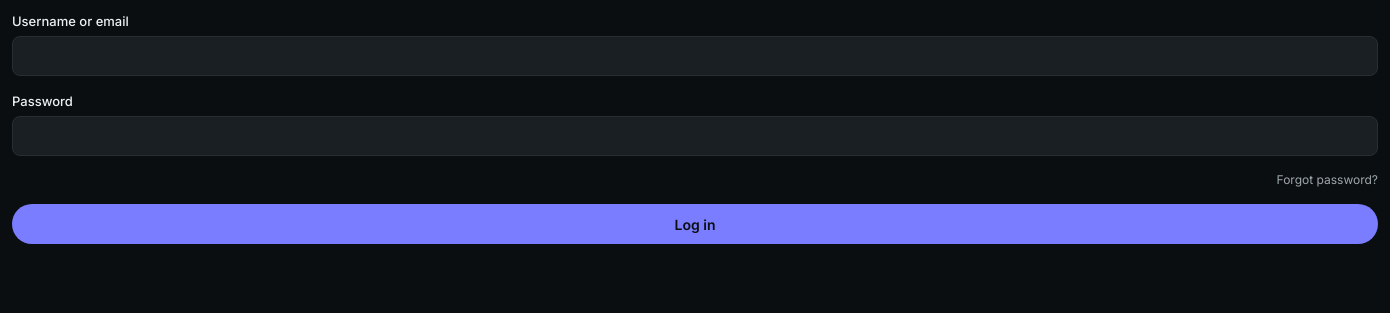
Test: login with two-factor authentication › goes back to the password step when the second-step token expired
The width and height of the screenshot is (1390, 313).
Type "ada" into the field labelled "Username or email". click: (695,56)
box: [12, 36, 1378, 76]
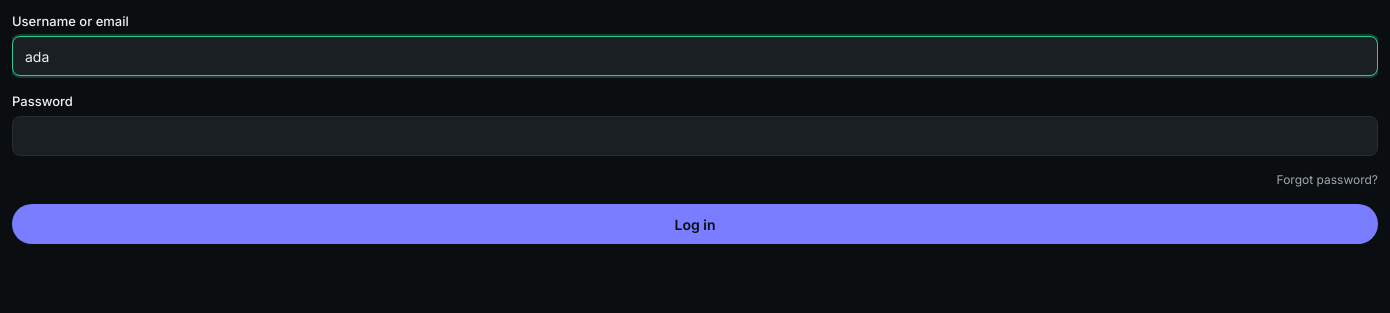
Type "abcd1234" into the password field labelled "Password". click: (695,136)
box: [12, 116, 1378, 156]
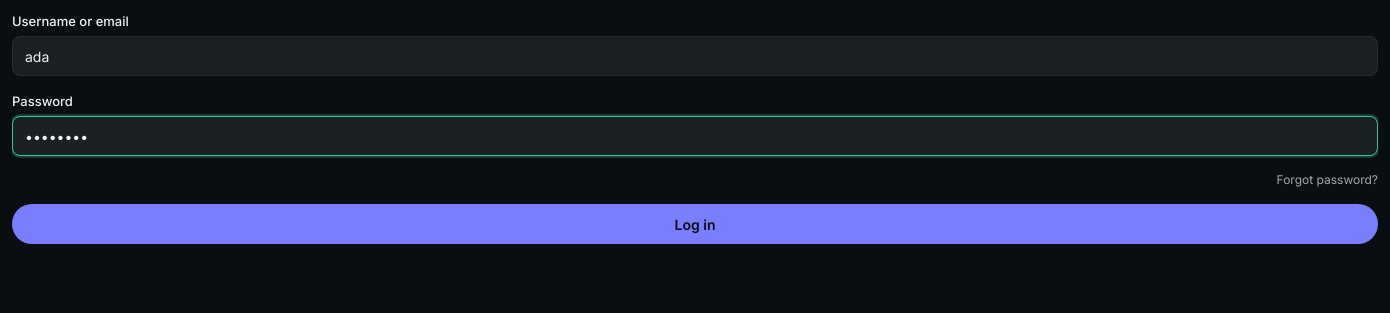
Click the button "Log in". click: (695,224)
box: [12, 204, 1378, 244]
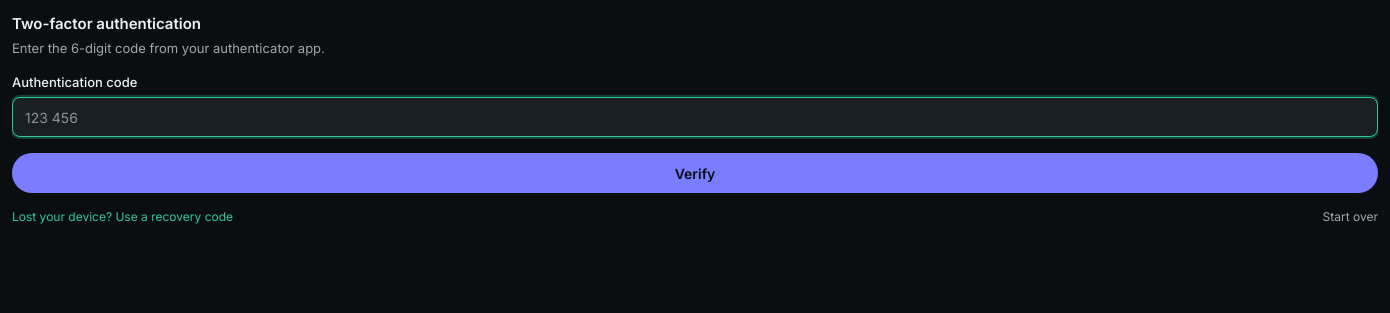
Type "123456" into the field labelled "Authentication code". click: (695,117)
box: [12, 97, 1378, 137]
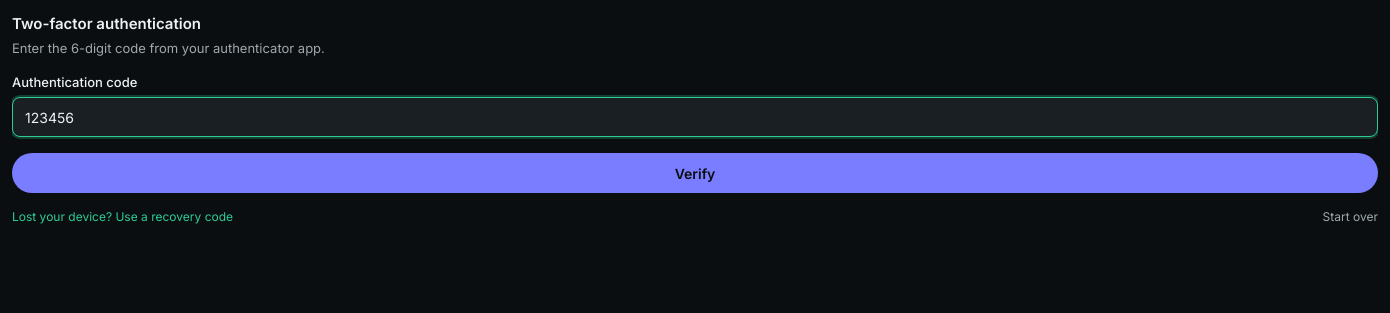
Click the button "Verify". click: (695,173)
box: [12, 153, 1378, 193]
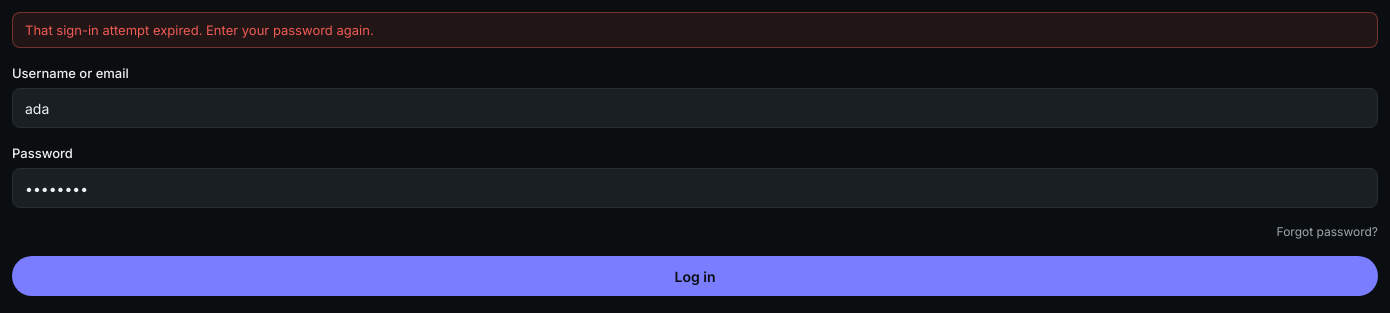
Expected: the message shows "That sign-in attempt expired", [25, 22, 374, 38]
Expected: the button "Log in" is shown, [12, 256, 1378, 296]
